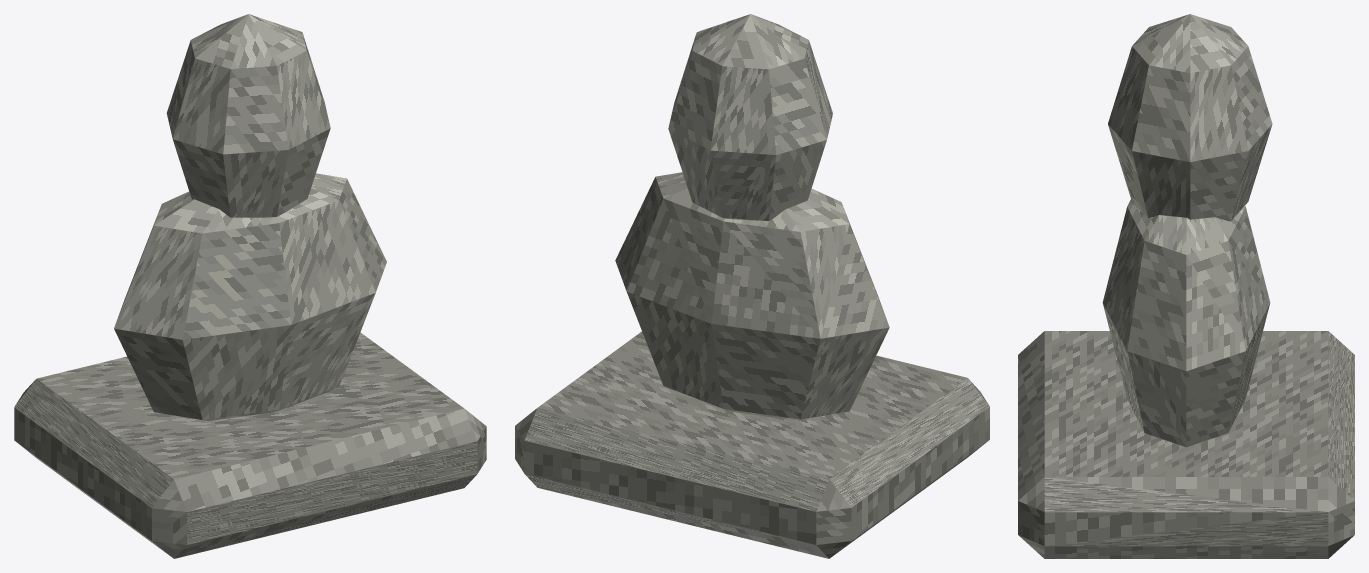
The model's file is sculpture_rock.glb.
3 renders of one model, left to right at view 1: azimuth 30°, elevation 25°; view 2: azimuth 150°, elevation 25°; view 3: azimuth 270°, elevation 25°, orthographic. The views are drawn at different scales.
Parts seen in each view (by area): view 1: block_plinth, block_carved shoulders, block_carved head; view 2: block_plinth, block_carved shoulders, block_carved head; view 3: block_plinth, block_carved shoulders, block_carved head.
Boxes of the visible parts, x1,y1,x2,y2 form: block_plinth: (14, 332, 486, 558); block_carved shoulders: (114, 173, 386, 420); block_carved head: (166, 14, 330, 217); block_plinth: (515, 331, 989, 558); block_carved shoulders: (615, 172, 889, 420); block_carved head: (668, 14, 832, 221); block_plinth: (1018, 331, 1354, 558); block_carved shoulders: (1102, 199, 1270, 447); block_carved head: (1108, 14, 1272, 221).
Bounding box in the file's own units: 0.2297 × 0.3 × 0.1941.
1 material, 1 textured.
